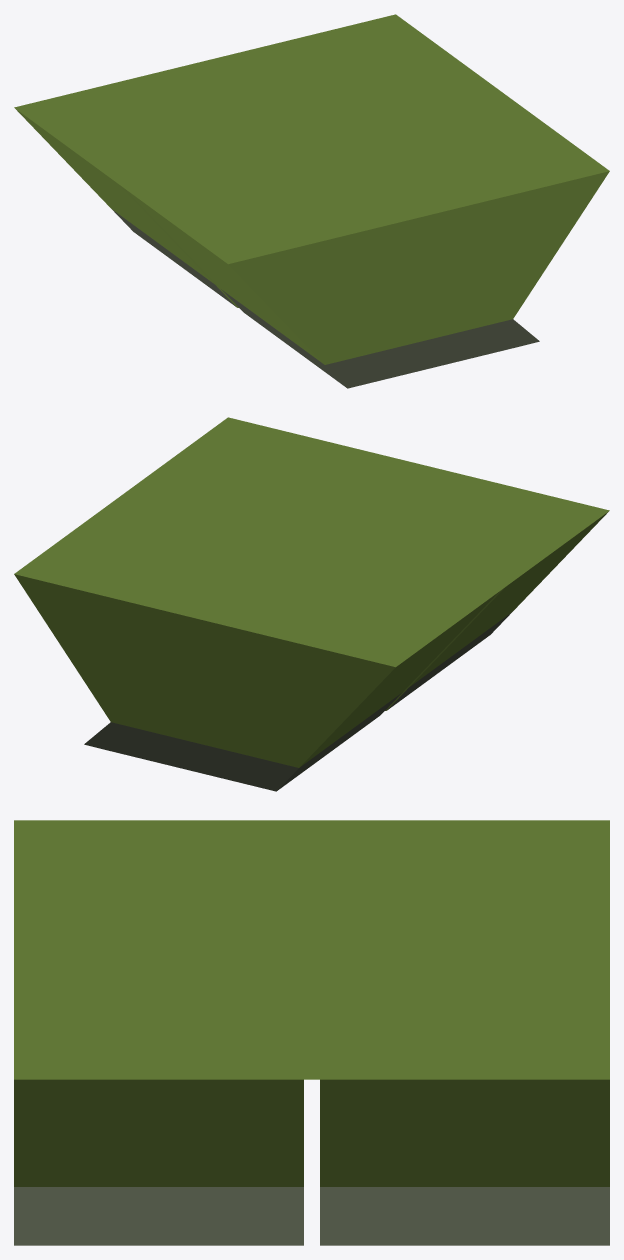
Rendered from Hijack_leg.glb.
3 views of the same model, one above another, from view 1: azimuth 30°, elevation 25°; view 2: azimuth 150°, elevation 25°; view 3: azimuth 270°, elevation 25° (orthographic). The views are drawn at different scales.
Parts seen in each view (by area): view 1: Cube.002; view 2: Cube.002; view 3: Cube.002.
Part boxes in pixels (x1,y1,x2,y2): Cube.002: [14, 14, 609, 388]; Cube.002: [14, 417, 609, 791]; Cube.002: [14, 820, 609, 1245].
Size of the model in its own units: 1.3 by 0.4996 by 1.26.
